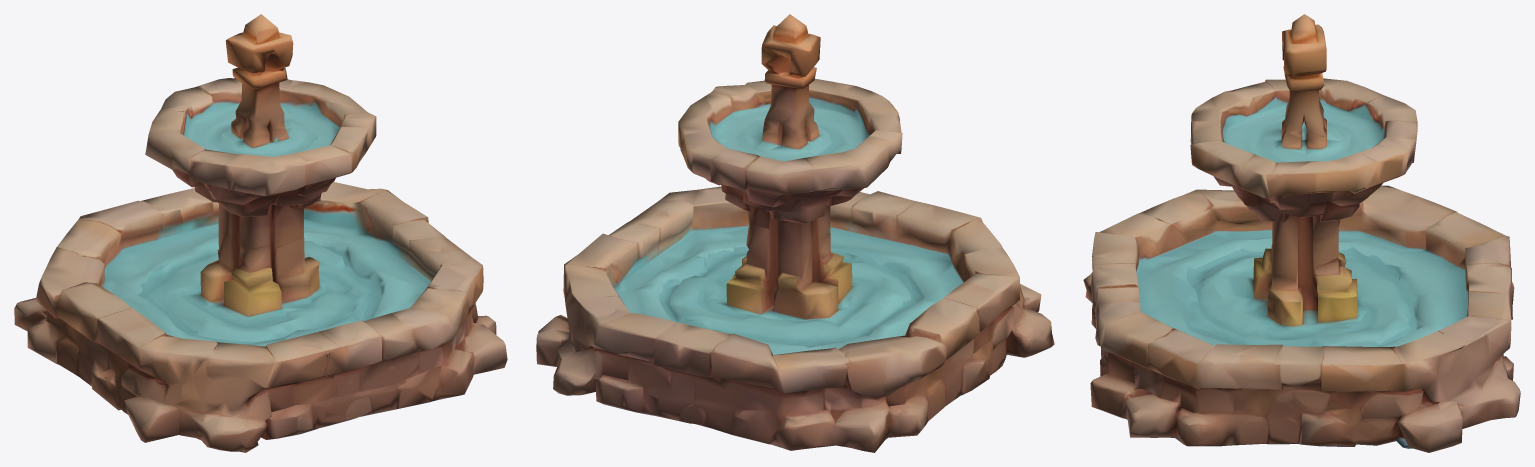
The model's file is fountain.glb.
3 renders of one model, left to right at view 1: azimuth 30°, elevation 25°; view 2: azimuth 150°, elevation 25°; view 3: azimuth 270°, elevation 25°, orthographic. The views are drawn at different scales.
Visible parts, largest first — view 1: tripo_node_d1ffb8c3-a9f1-4a2d-9569-0ae382b2edc2; view 2: tripo_node_d1ffb8c3-a9f1-4a2d-9569-0ae382b2edc2; view 3: tripo_node_d1ffb8c3-a9f1-4a2d-9569-0ae382b2edc2.
Part boxes in pixels (x1,y1,x2,y2): tripo_node_d1ffb8c3-a9f1-4a2d-9569-0ae382b2edc2: (14,14,507,452); tripo_node_d1ffb8c3-a9f1-4a2d-9569-0ae382b2edc2: (536,14,1054,452); tripo_node_d1ffb8c3-a9f1-4a2d-9569-0ae382b2edc2: (1083,14,1520,452).
Size of the model in its own units: 1 by 0.8626 by 0.9744.
1 material, 1 textured.
